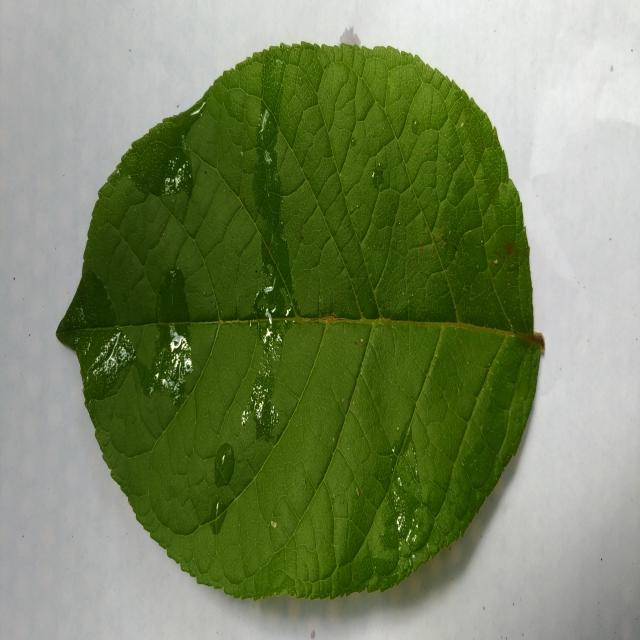padri: (56, 44, 544, 598)
